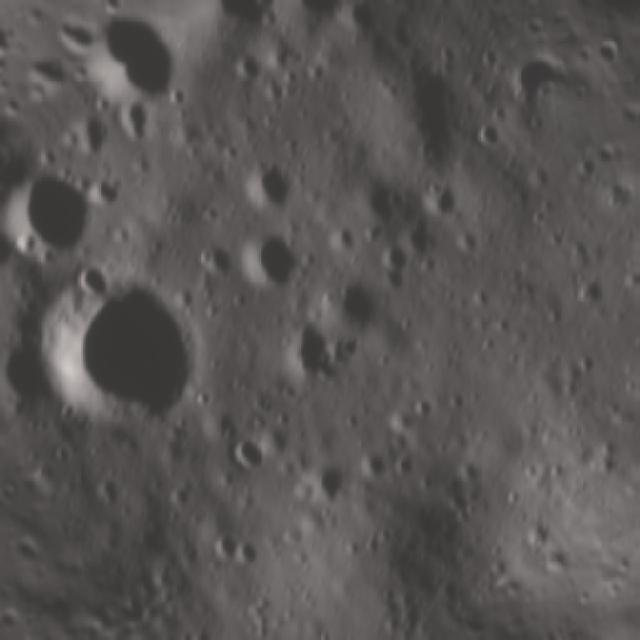crater: (0, 233, 232, 472), (0, 144, 122, 274), (265, 318, 353, 404), (114, 39, 200, 126), (310, 261, 393, 350), (235, 224, 313, 302), (203, 516, 272, 586), (364, 228, 428, 294), (407, 165, 470, 230), (244, 153, 308, 216), (221, 421, 281, 482), (467, 110, 521, 164), (237, 0, 334, 25), (0, 217, 29, 285), (353, 635, 398, 640)
